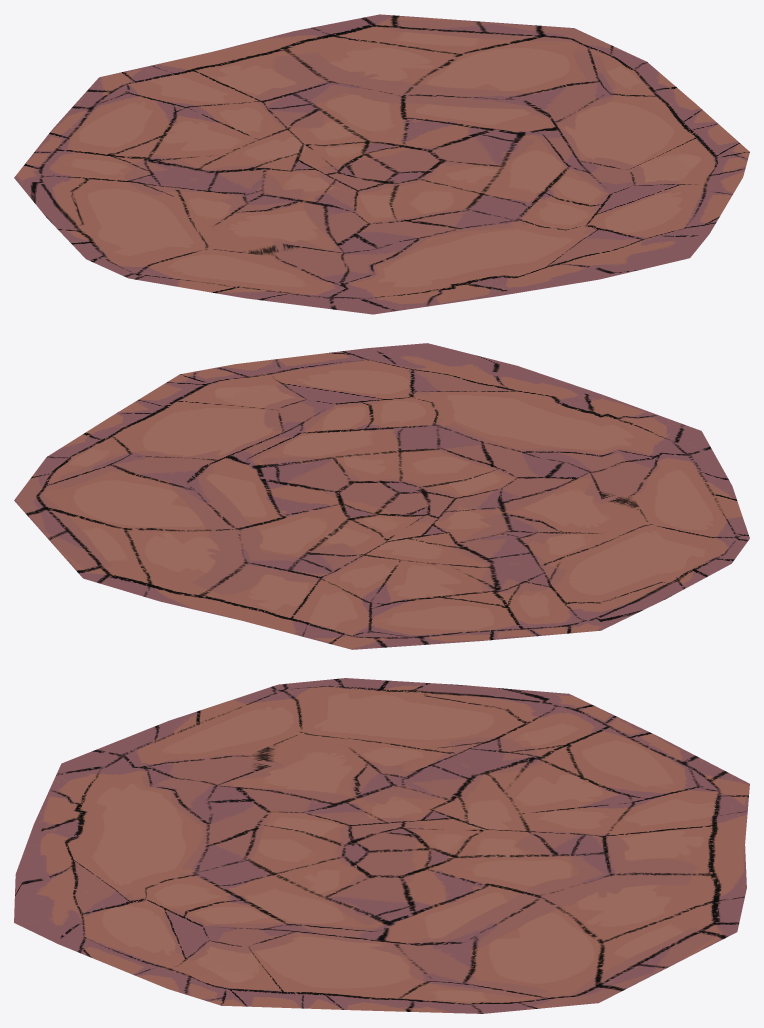
3 renders of one model, top to bottom at view 1: azimuth 30°, elevation 25°; view 2: azimuth 150°, elevation 25°; view 3: azimuth 270°, elevation 25°, orthographic. The views are drawn at different scales.
Parts seen in each view (by area): view 1: Plane; view 2: Plane; view 3: Plane.
Boxes of the visible parts, left/top/right/bottom form: Plane: left=14, top=14, right=749, bottom=314; Plane: left=14, top=343, right=749, bottom=649; Plane: left=14, top=678, right=749, bottom=1013.
Bounding box in the file's own units: 65.34 × 9.86e-06 × 60.49.
1 material, 1 textured.
